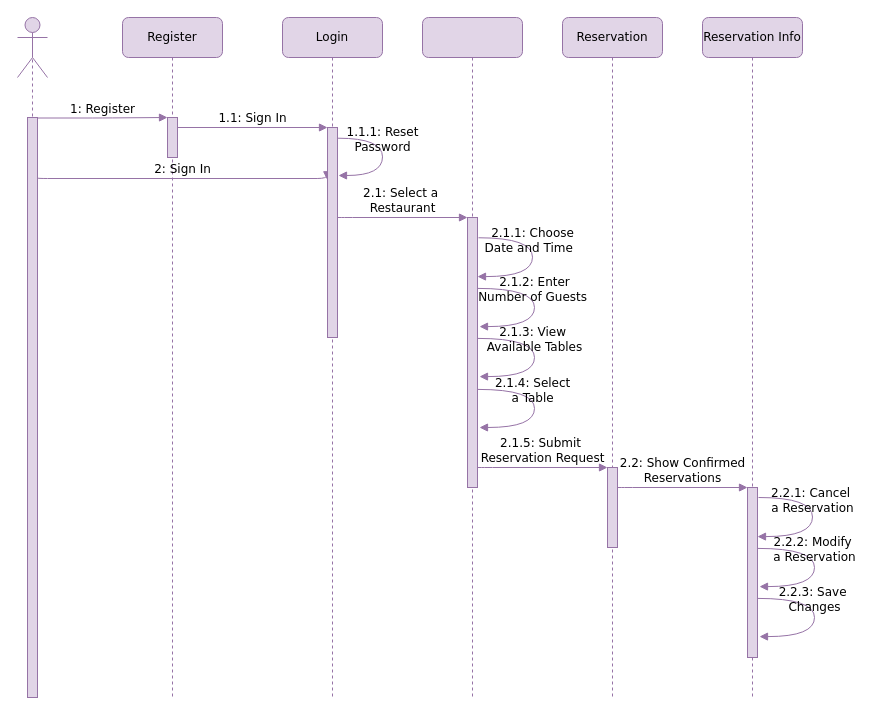
Image size: 873x715. Some labels were removed from this diagram. The box of each missing label's shape, as (x1, y1, x2, y2) in pixels:
Client: (16, 16, 48, 78)
Restaurant List: (422, 16, 522, 698)
